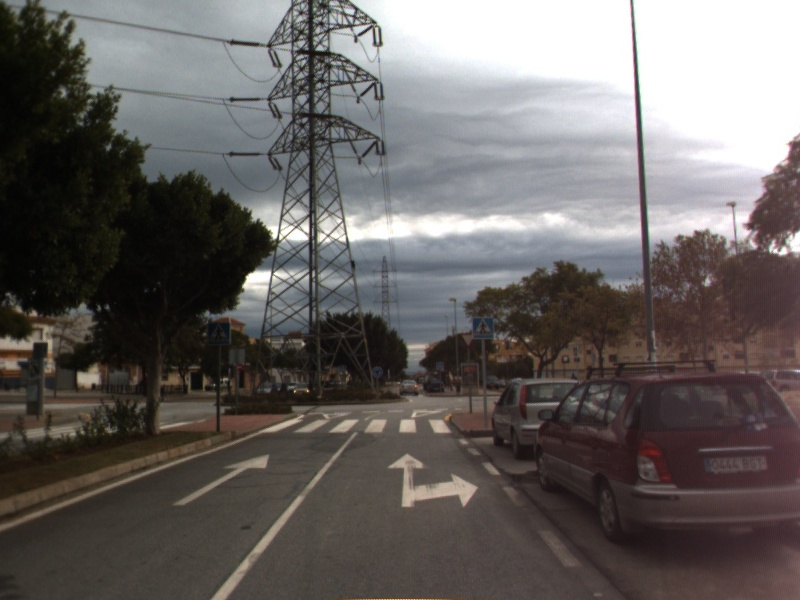STRAIGHT: (170, 452, 271, 507)
STRAIGHT_RIGHT: (385, 451, 480, 509)
